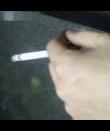Cigarette: (10, 49, 48, 61)
